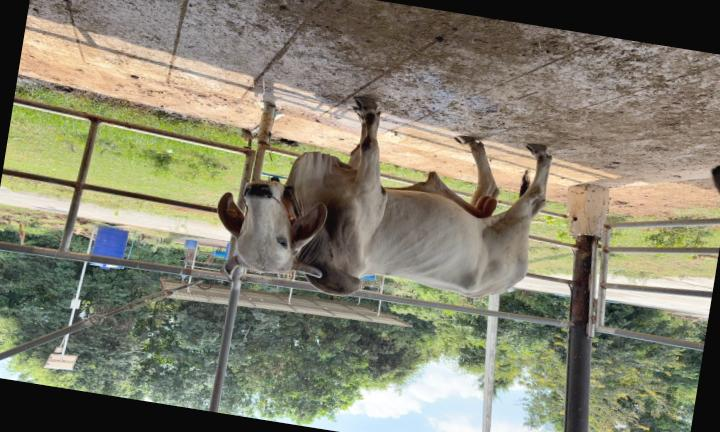Brahman: (217, 97, 551, 297)
